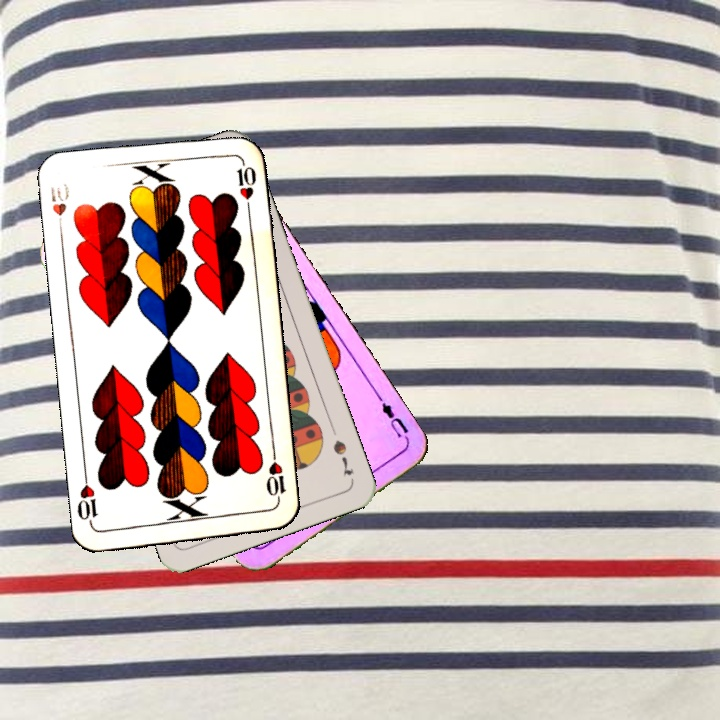EU: (375, 393, 413, 447)
H10: (46, 179, 72, 237), (261, 458, 288, 507)
S7: (329, 436, 356, 478)
